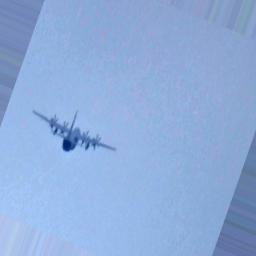Airplane: (32, 109, 117, 155)
